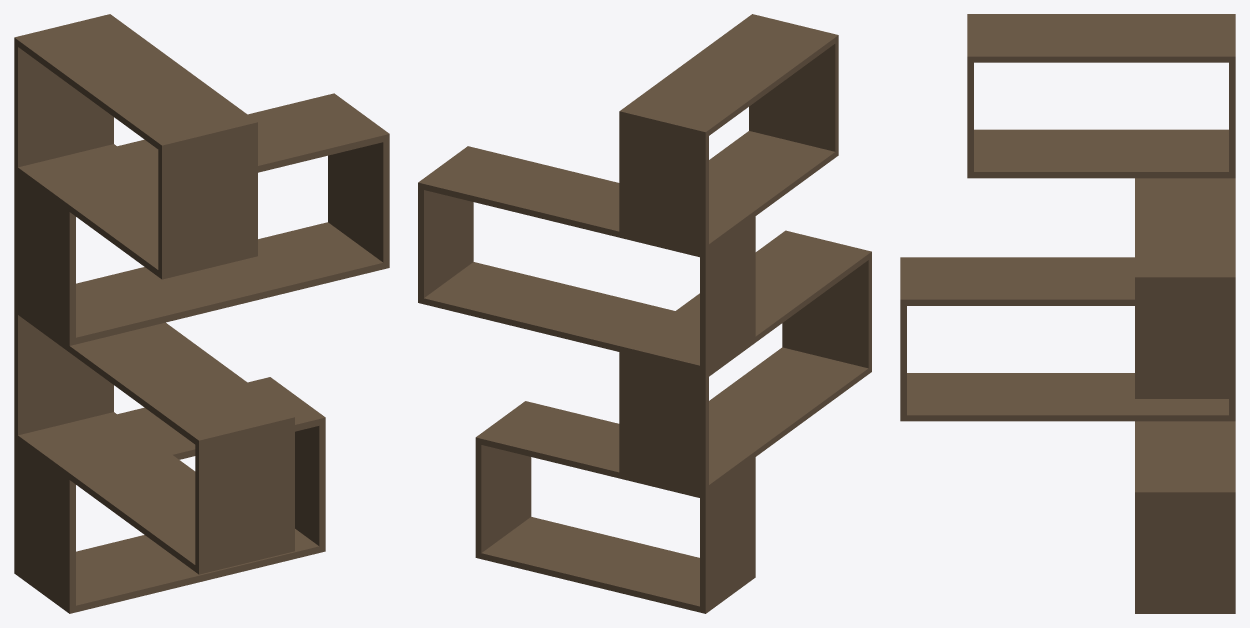
Rendered from corner_wall_shelf.glb.
3 renders of one model, left to right at view 1: azimuth 30°, elevation 25°; view 2: azimuth 150°, elevation 25°; view 3: azimuth 270°, elevation 25°, orthographic. The views are drawn at different scales.
Size of the model in its own units: 0.625 by 1 by 0.625.
1 material, 1 textured.
